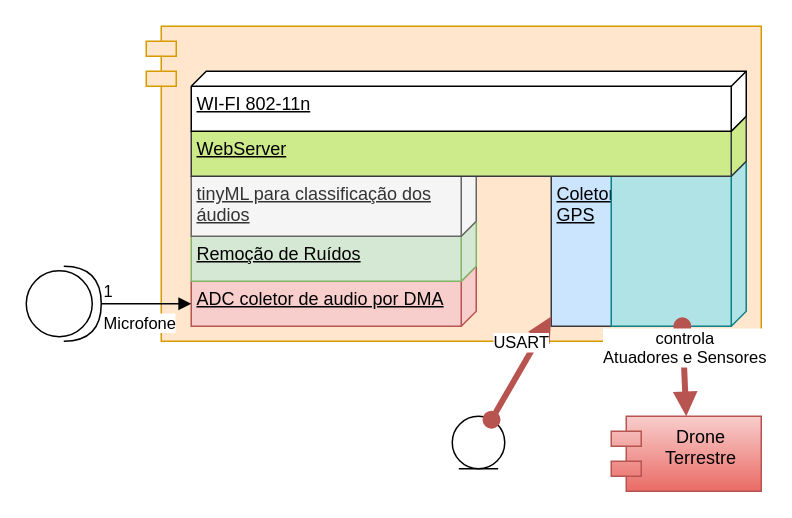
Image size: 792x518. Some labels were removed from this diagram. The shapes that lost their labels are listed below. From the top down, each one's box as (x1, y1, x2, y2) in pixels, then its label:
(145, 25, 761, 341): Analisador de ruídos por Magnectostricção - Coletor de Audios
(610, 160, 746, 326): Controlador do Drone Terrestre
(451, 415, 505, 469): GPS
